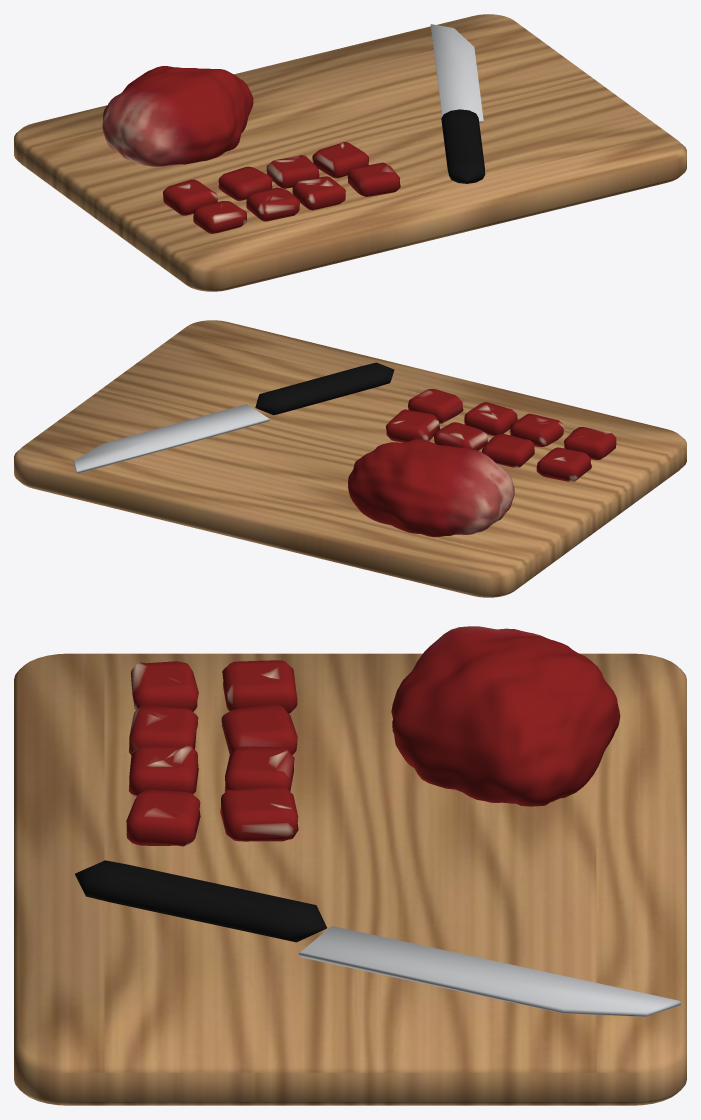
File: paso-1.glb
3 renders of one model, top to bottom at view 1: azimuth 30°, elevation 25°; view 2: azimuth 150°, elevation 25°; view 3: azimuth 270°, elevation 25°, orthographic. The views are drawn at different scales.
Visible parts, largest first — view 1: paso-1-0, paso-1-1, paso-1-10, paso-1-11, paso-1-9, paso-1-5, paso-1-7, paso-1-8, paso-1-2, paso-1-6, paso-1-3, paso-1-4; view 2: paso-1-0, paso-1-1, paso-1-10, paso-1-11, paso-1-2, paso-1-5, paso-1-3, paso-1-7, paso-1-8, paso-1-9, paso-1-6, paso-1-4; view 3: paso-1-0, paso-1-1, paso-1-10, paso-1-11, paso-1-5, paso-1-9, paso-1-2, paso-1-8, paso-1-3, paso-1-6, paso-1-4, paso-1-7.
Part boxes in pixels (x1,y1,x2,y2): paso-1-0: [14, 14, 686, 291]; paso-1-1: [102, 66, 253, 166]; paso-1-10: [430, 24, 483, 122]; paso-1-11: [441, 109, 485, 183]; paso-1-9: [347, 162, 400, 196]; paso-1-5: [312, 142, 368, 178]; paso-1-7: [246, 187, 299, 221]; paso-1-8: [292, 176, 345, 210]; paso-1-2: [163, 179, 217, 215]; paso-1-6: [193, 201, 246, 233]; paso-1-3: [218, 166, 272, 200]; paso-1-4: [266, 155, 319, 188]; paso-1-0: [14, 320, 686, 597]; paso-1-1: [348, 439, 514, 537]; paso-1-10: [73, 404, 269, 473]; paso-1-11: [255, 362, 394, 415]; paso-1-2: [536, 447, 591, 482]; paso-1-5: [386, 409, 440, 442]; paso-1-3: [482, 433, 534, 467]; paso-1-7: [510, 413, 563, 447]; paso-1-8: [464, 402, 517, 435]; paso-1-9: [408, 389, 463, 423]; paso-1-6: [564, 427, 616, 460]; paso-1-4: [433, 422, 487, 450]; paso-1-0: [14, 653, 686, 1105]; paso-1-1: [391, 626, 620, 806]; paso-1-10: [298, 926, 680, 1016]; paso-1-11: [75, 860, 326, 942]; paso-1-5: [220, 785, 298, 841]; paso-1-9: [126, 789, 200, 846]; paso-1-2: [222, 660, 297, 713]; paso-1-8: [128, 745, 198, 796]; paso-1-3: [221, 704, 297, 754]; paso-1-6: [130, 661, 198, 711]; paso-1-4: [224, 746, 294, 791]; paso-1-7: [129, 706, 198, 754].
Size of the model in its own units: 0.38 by 0.0625 by 0.26.
4 materials, 1 textured.
